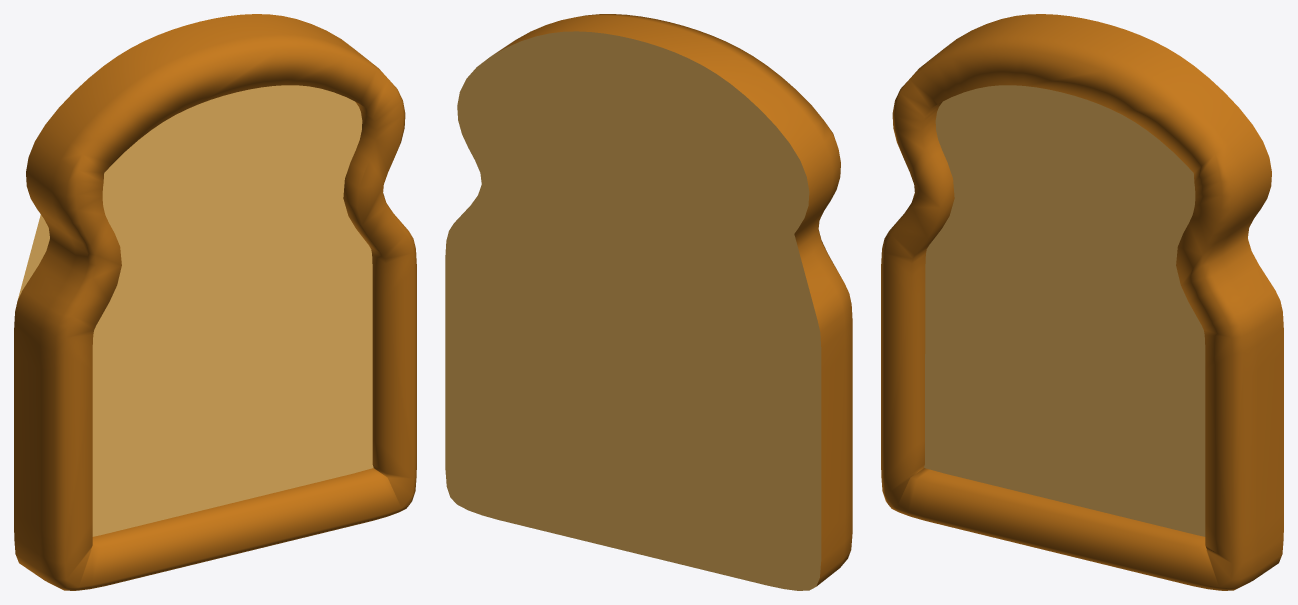
The model's file is Bread5.fbx.
The picture shows the model from 3 angles, left to right: view 1: azimuth 30°, elevation 25°; view 2: azimuth 150°, elevation 25°; view 3: azimuth 330°, elevation 25°; orthographic projection.
Parts seen in each view (by area): view 1: Bread5; view 2: Bread5; view 3: Bread5.
Boxes of the visible parts, left/top/right/bottom form: Bread5: left=14, top=14, right=416, bottom=590; Bread5: left=445, top=14, right=852, bottom=590; Bread5: left=881, top=14, right=1283, bottom=590.
Bounding box in the file's own units: 1.08 × 0.2075 × 1.41.
